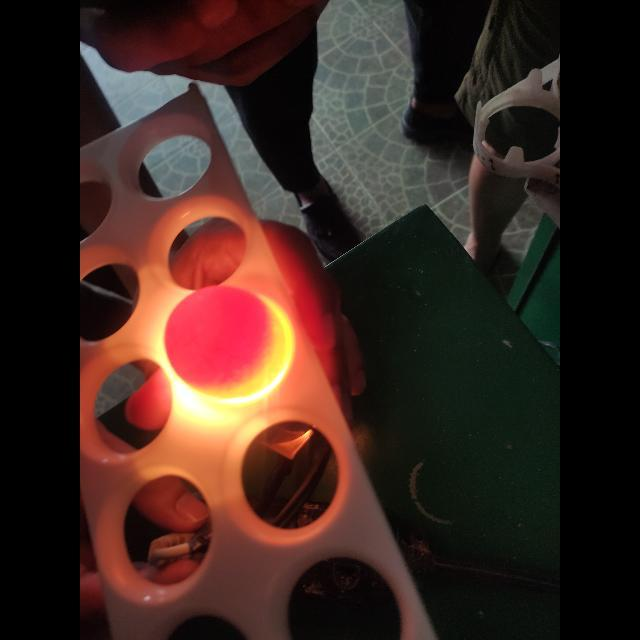Infertile: (164, 287, 288, 401)
